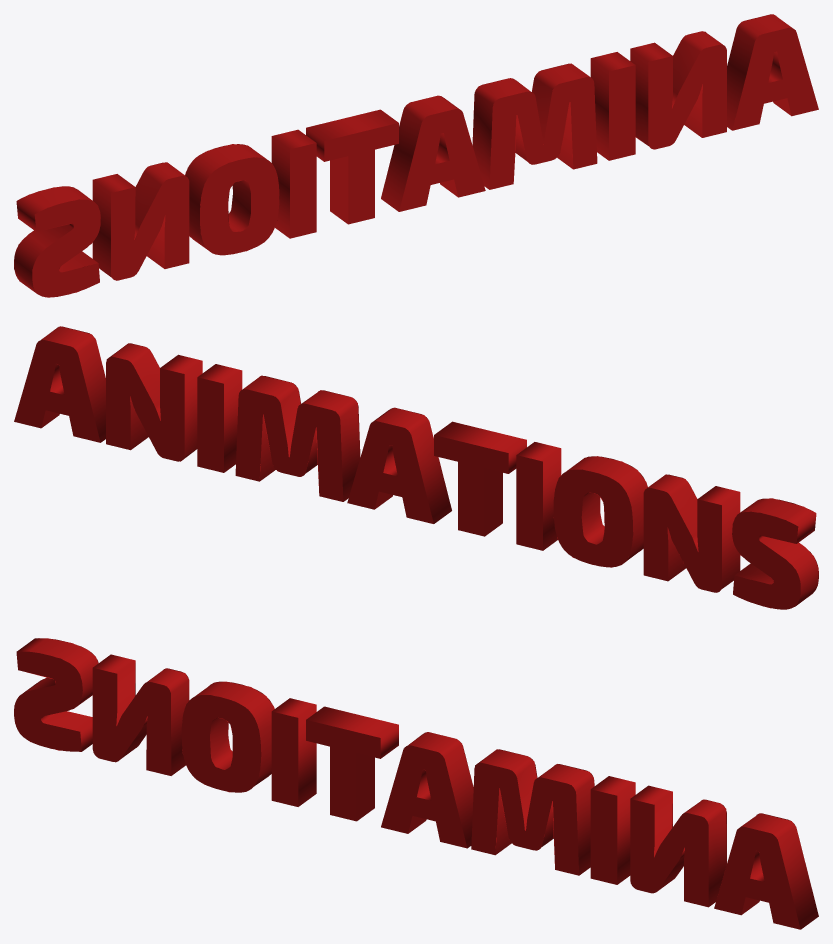
Rendered from animations.fbx.
3 renders of one model, top to bottom at view 1: azimuth 30°, elevation 25°; view 2: azimuth 150°, elevation 25°; view 3: azimuth 330°, elevation 25°, orthographic.
Parts seen in each view (by area): view 1: Text; view 2: Text; view 3: Text.
Part boxes in pixels (x1,y1,x2,y2): Text: (14, 14, 818, 297); Text: (14, 326, 818, 609); Text: (14, 638, 818, 929).
Bounding box in the file's own units: 19.92 × 2.25 × 0.8001.
